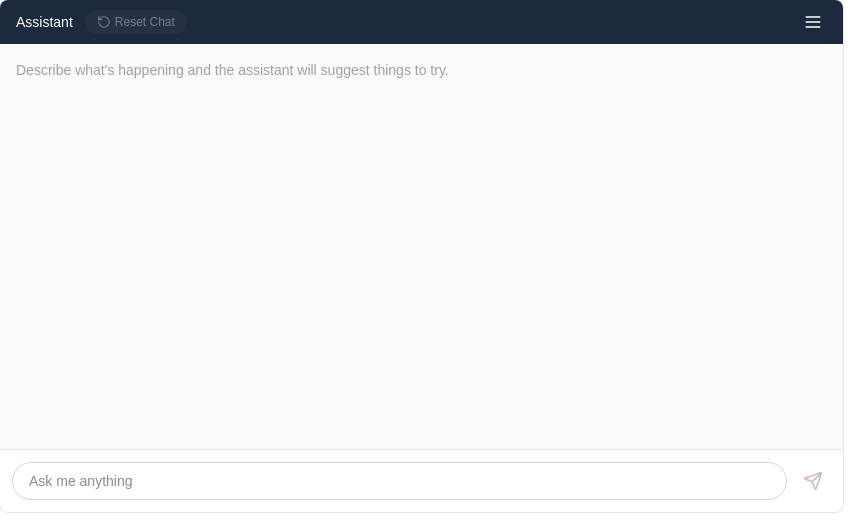
Test case: shows the follow-up question when the assistant suggests no actions yet
In the field named "describe": coordinates (399, 481) 12,462 -> 787,500, type "Ben is upset after school"
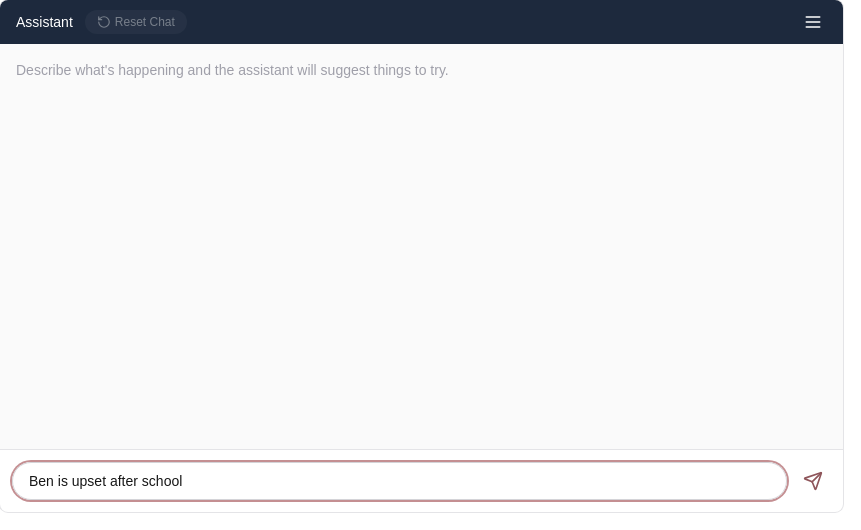
Click the button named "send": coordinates (813, 481) 795,463 -> 831,499
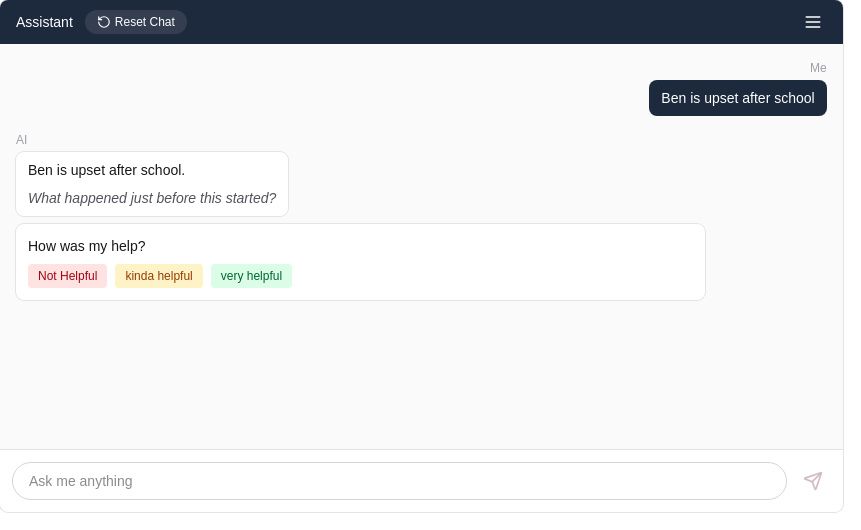
Result: the text "What happened just before this started?" is shown at 28,188 -> 276,208
